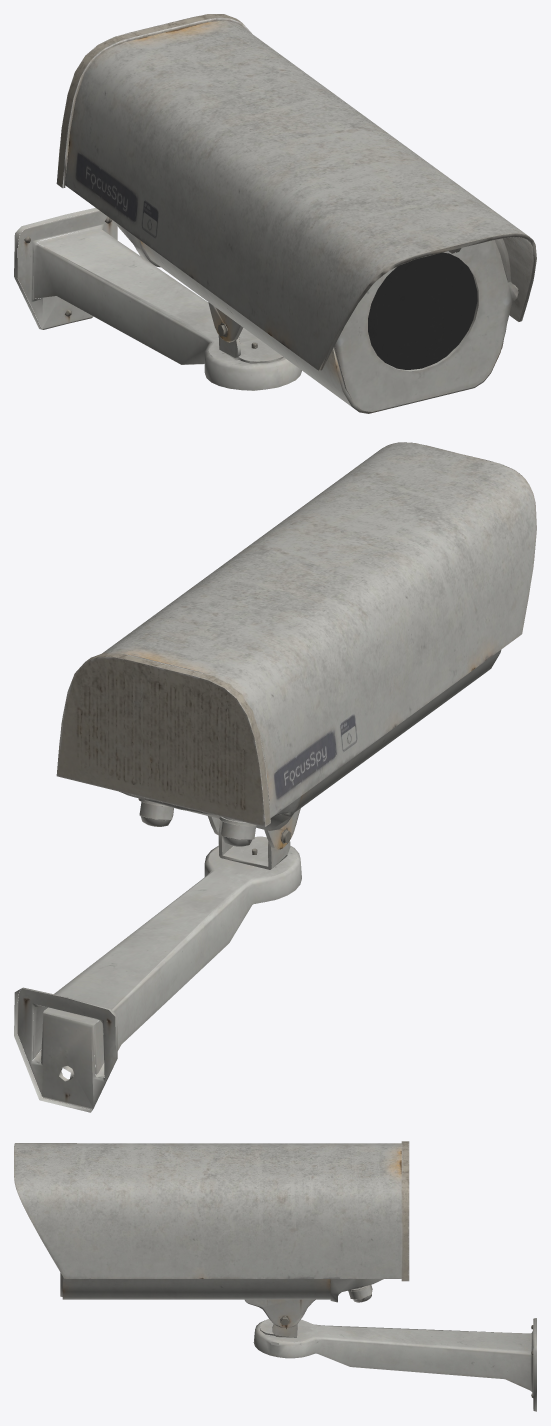
Rendered from arena-security-camera-01.glb.
The picture shows the model from 3 angles, top to bottom: view 1: azimuth 30°, elevation 25°; view 2: azimuth 150°, elevation 25°; view 3: azimuth 270°, elevation 25°; orthographic projection. The views are drawn at different scales.
Parts seen in each view (by area): view 1: security_camera_01; view 2: security_camera_01; view 3: security_camera_01.
Boxes of the visible parts, bbox=[...] form: security_camera_01: bbox=[14, 14, 536, 413]; security_camera_01: bbox=[14, 442, 536, 1112]; security_camera_01: bbox=[14, 1141, 536, 1411].
Bounding box in the file's own units: 0.1695 × 0.286 × 0.5537.
2 materials, 2 textured.
